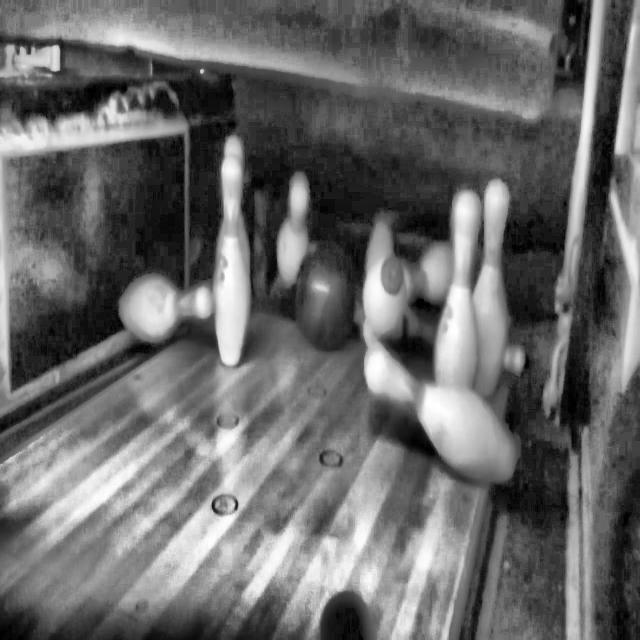bowling-ball: (297, 242, 354, 348)
bowling-pins: (435, 191, 480, 388), (213, 158, 250, 365), (474, 180, 508, 397)
